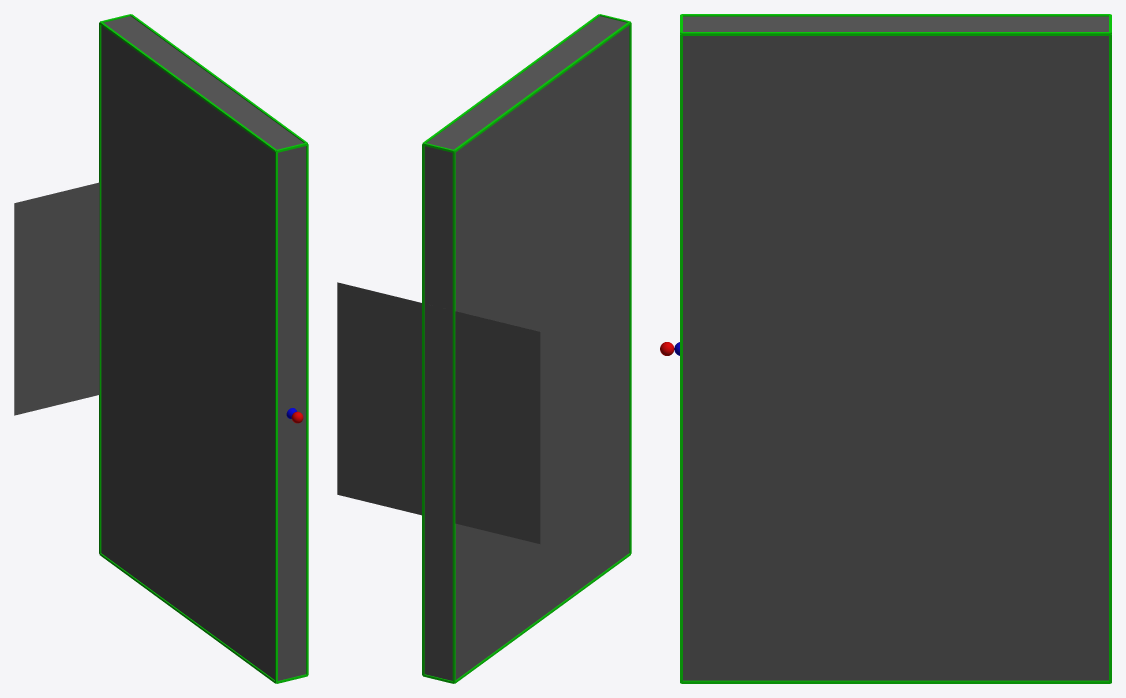
3 views of the same model, side by side, from view 1: azimuth 30°, elevation 25°; view 2: azimuth 150°, elevation 25°; view 3: azimuth 270°, elevation 25° (orthographic). The views are drawn at different scales.
Size of the model in its own units: 2 by 5.02 by 3.16.
